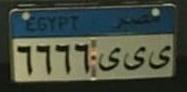6: (34, 42, 52, 76), (16, 43, 33, 77), (74, 41, 90, 76), (54, 43, 71, 75)
yaa: (147, 43, 172, 73), (123, 44, 146, 73), (98, 46, 121, 74)
